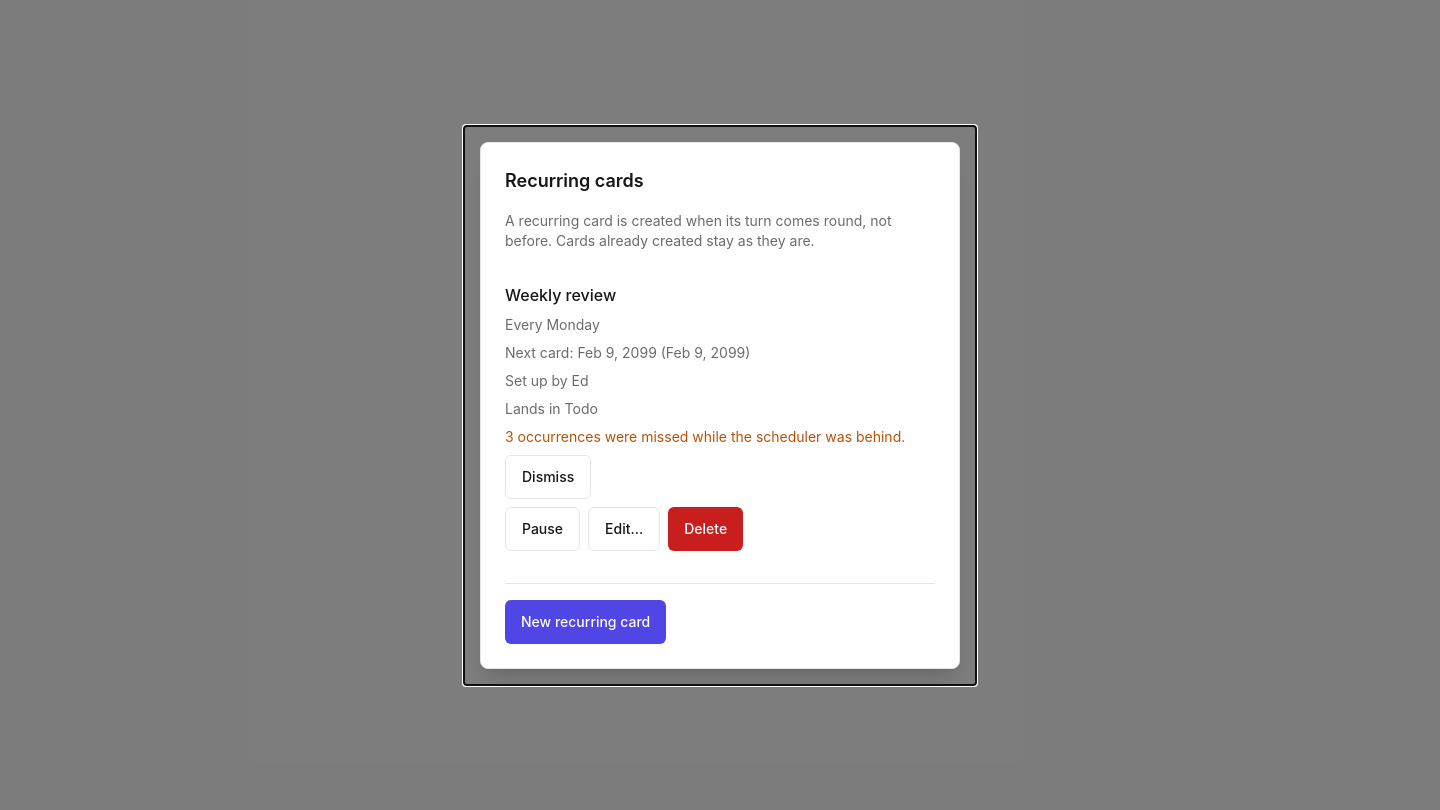
Test case: TaskSeriesModal › reports missed occurrences and dismisses them
Check: the message reads "3 occurrences were missed while the scheduler was behind.", box [505, 428, 905, 444]
What coordinates should you click on to do the following:
click the button with aria-label "Dismiss missed occurrences for Weekly review"
I would click on:
 (548, 476)
Its box is [505, 454, 591, 498].
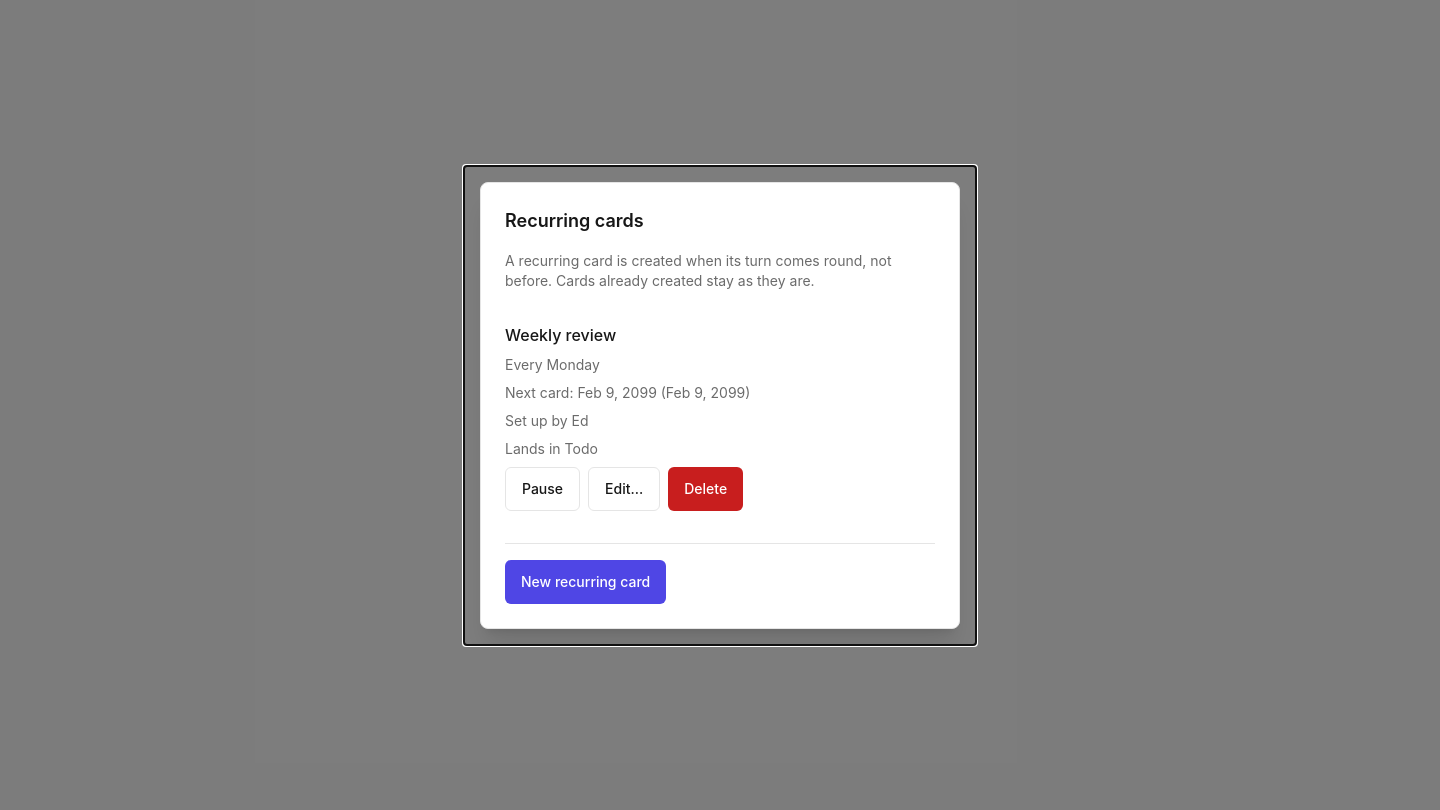
Check: the message "3 occurrences were missed while the scheduler was behind." is gone
